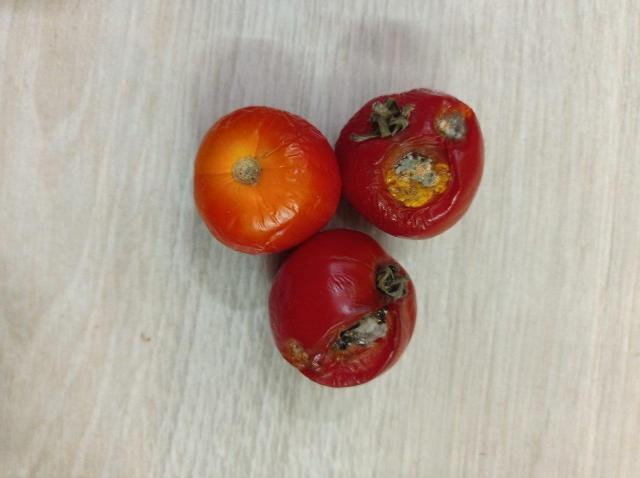defect: (264, 226, 419, 389), (336, 86, 488, 240)
